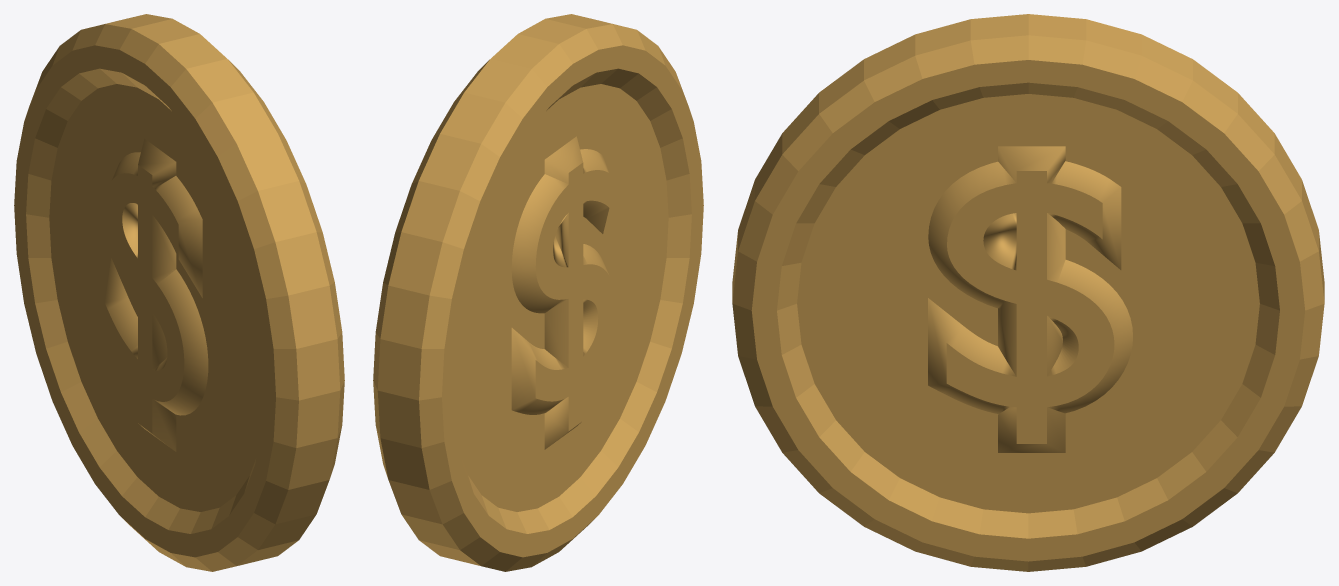
The model's file is Coin001.fbx.
3 renders of one model, left to right at view 1: azimuth 30°, elevation 25°; view 2: azimuth 150°, elevation 25°; view 3: azimuth 270°, elevation 25°, orthographic. The views are drawn at different scales.
Visible parts, largest first — view 1: Coin obj; view 2: Coin obj; view 3: Coin obj.
Boxes of the visible parts, bbox=[...] form: Coin obj: bbox=[14, 14, 344, 571]; Coin obj: bbox=[373, 14, 703, 571]; Coin obj: bbox=[732, 14, 1324, 571].
Bounding box in the file's own units: 104 × 706 × 706.
